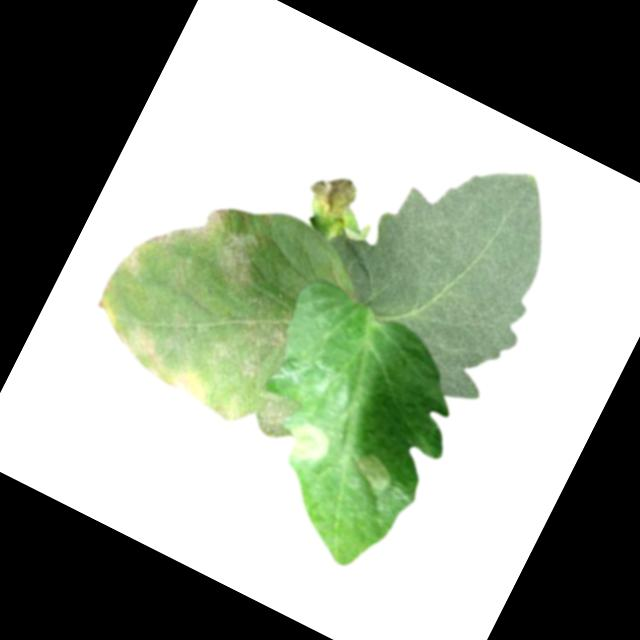Late_blight: (74, 174, 370, 452), (301, 161, 364, 225), (282, 416, 336, 470), (345, 447, 397, 496)
